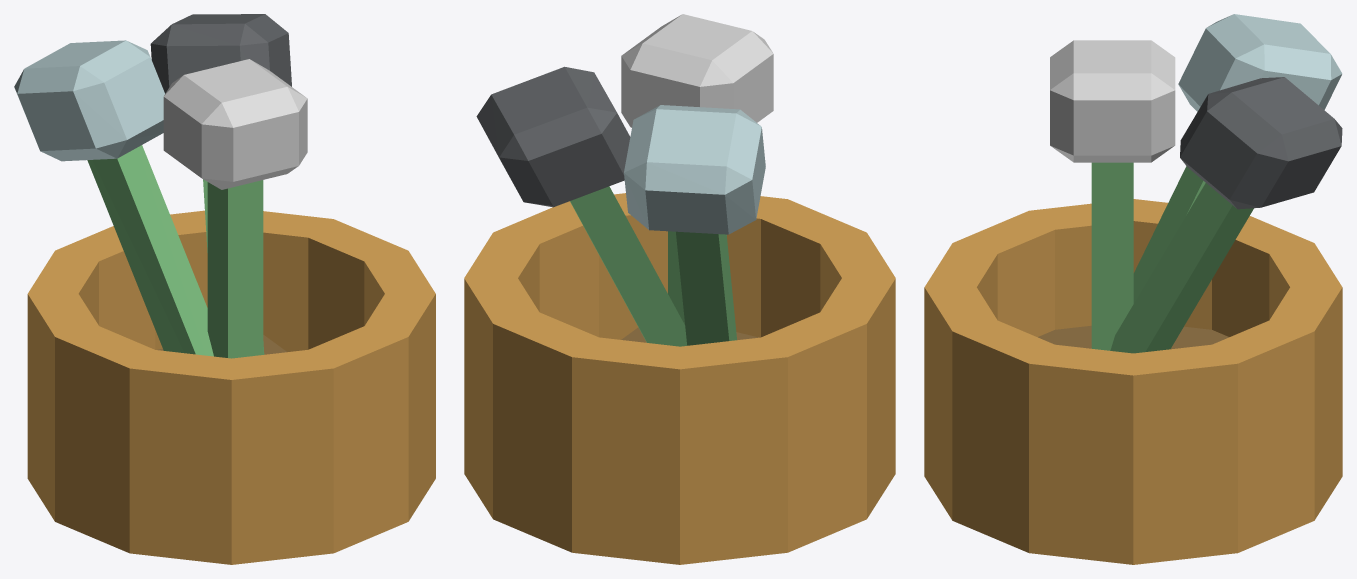
The model's file is plant_5.glb.
3 views of the same model, side by side, from view 1: azimuth 30°, elevation 25°; view 2: azimuth 150°, elevation 25°; view 3: azimuth 270°, elevation 25° (orthographic). The views are drawn at different scales.
Visible parts, largest first — view 1: Mesh_Mesh_head_geo.001_lambert2SG.001; view 2: Mesh_Mesh_head_geo.001_lambert2SG.001; view 3: Mesh_Mesh_head_geo.001_lambert2SG.001.
Part boxes in pixels (x1,y1,x2,y2): Mesh_Mesh_head_geo.001_lambert2SG.001: [14, 14, 435, 564]; Mesh_Mesh_head_geo.001_lambert2SG.001: [464, 14, 895, 564]; Mesh_Mesh_head_geo.001_lambert2SG.001: [924, 14, 1342, 564].
Bounding box in the file's own units: 1 × 1.1 × 1.
